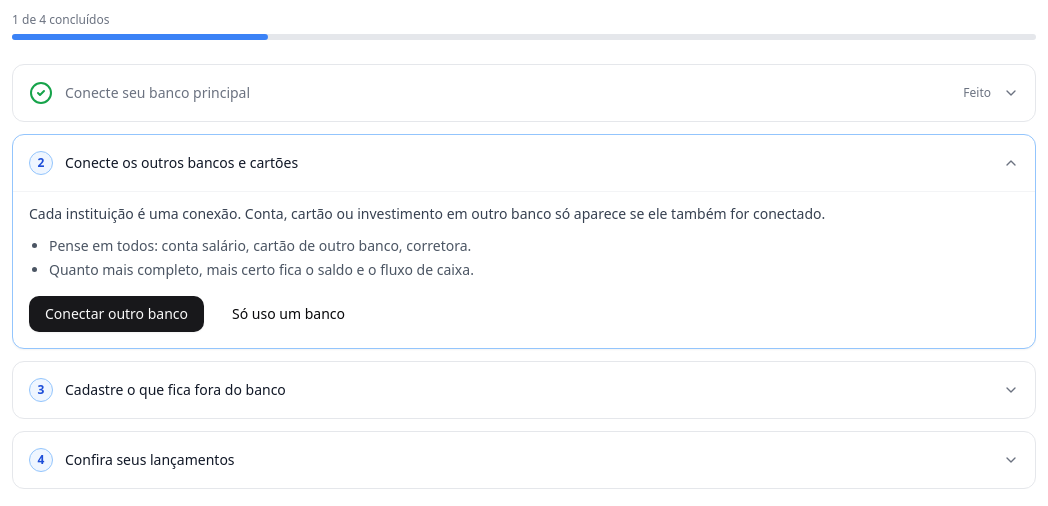
Test: guia de primeiros passos › pular avança para o próximo passo e fica guardado
Click the button "Só uso um banco": [288, 314] box [216,296,361,332]
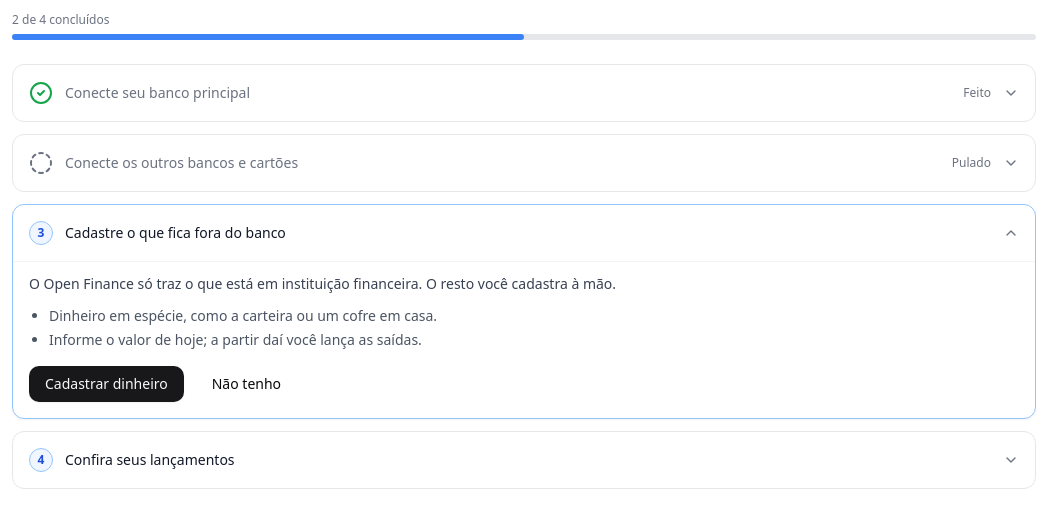
expect the text "2 de 4 concluídos" is shown: met, box [12,11,110,28]
